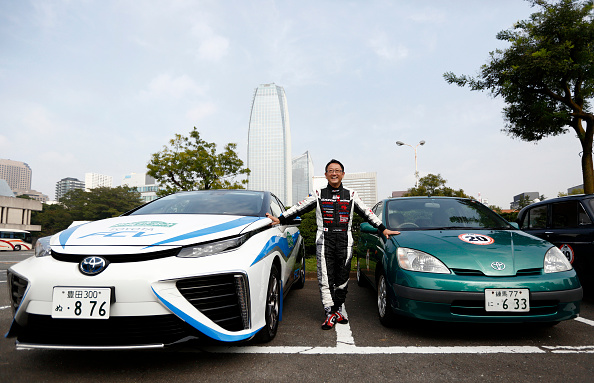em pe: (284, 159, 361, 312)
